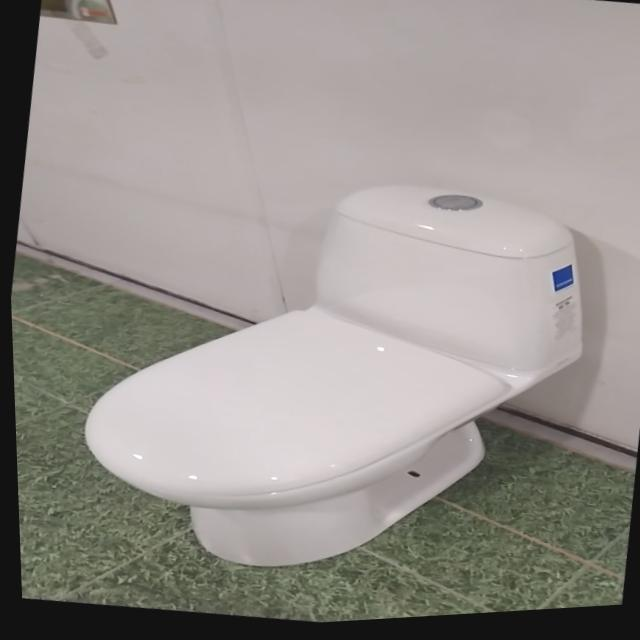toilet: (55, 138, 608, 620)
